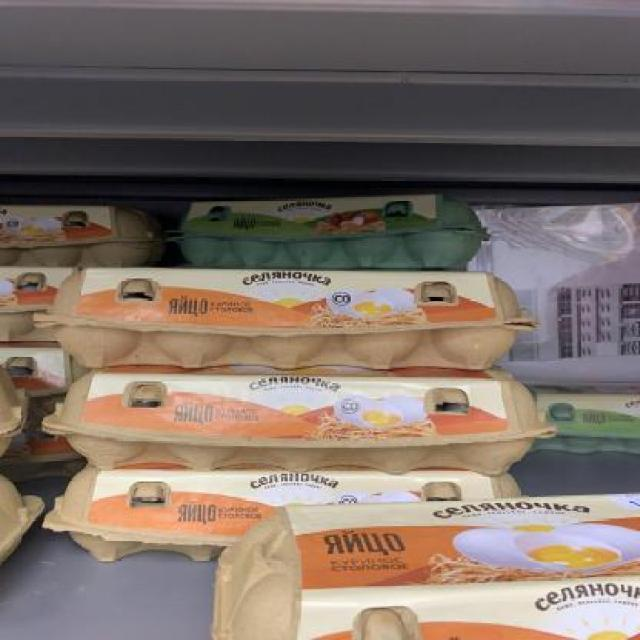egg: (38, 369, 557, 474), (31, 266, 542, 372), (42, 468, 540, 560), (161, 193, 497, 270), (0, 200, 160, 266), (537, 381, 640, 453)
